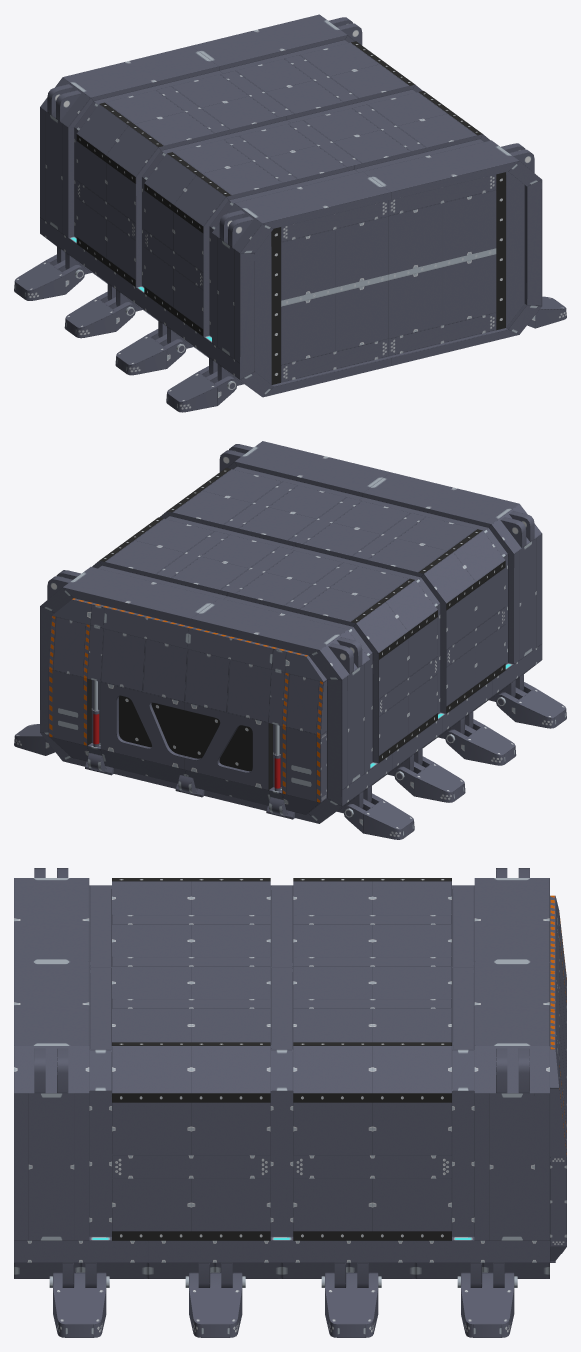
File: Container_02.FBX
3 renders of one model, top to bottom at view 1: azimuth 30°, elevation 25°; view 2: azimuth 150°, elevation 25°; view 3: azimuth 270°, elevation 25°, orthographic. The views are drawn at different scales.
Parts seen in each view (by area): view 1: Container_02, Gear_Left, Gear_Right; view 2: Container_02, Door_01, Gear_Left, Gear_Right; view 3: Container_02, Gear_Right, Door_01.
Part boxes in pixels (x1,y1,x2,y2): Container_02: (40,14,542,397); Gear_Left: (14,254,237,412); Gear_Right: (527,296,566,328); Container_02: (40,441,542,823); Door_01: (48,598,326,816); Gear_Left: (343,682,566,839); Gear_Right: (14,724,54,755); Container_02: (14,868,555,1287); Gear_Right: (49,1272,517,1337); Door_01: (550,895,566,1260).
Bounding box in the file's own units: 51.43 × 23.5 × 47.3.
